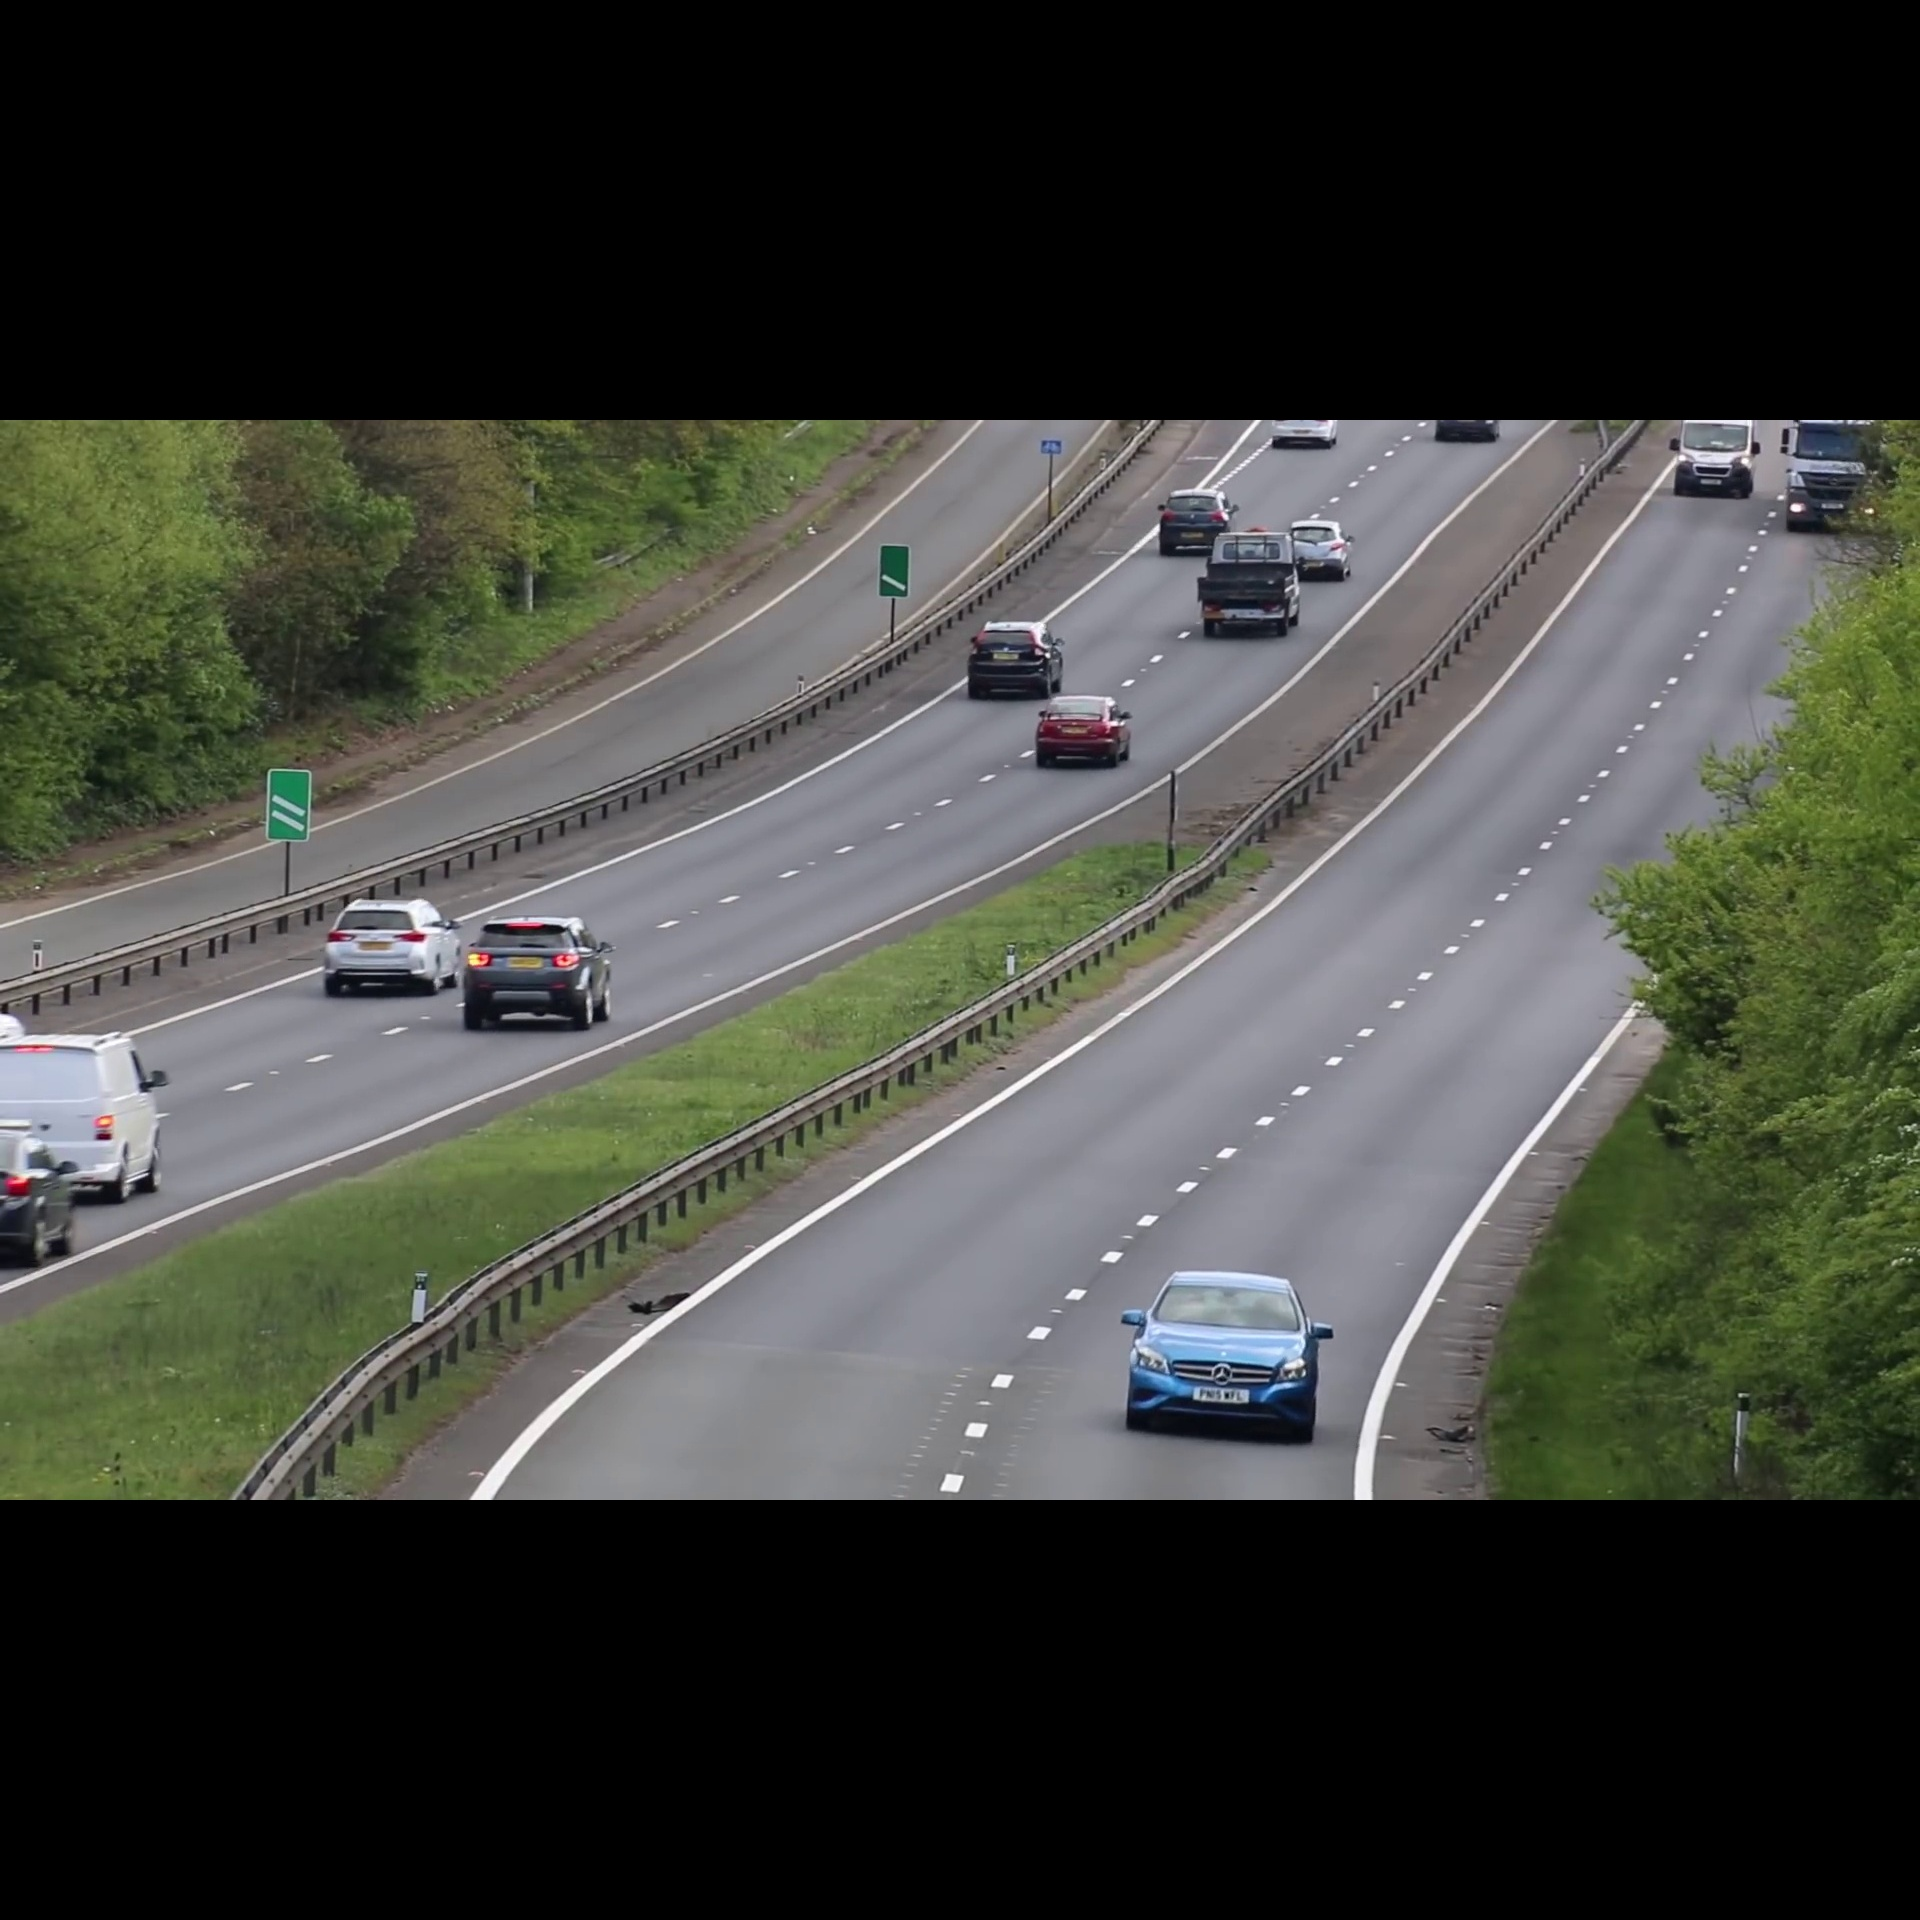vehicle: (1106, 1257, 1338, 1451), (2, 1022, 185, 1155), (464, 909, 621, 1036), (324, 893, 468, 1004), (1779, 420, 1894, 540), (1197, 531, 1303, 638), (2, 1141, 84, 1271), (1670, 420, 1769, 506), (967, 615, 1065, 700), (1034, 691, 1136, 772), (1152, 489, 1233, 550), (1296, 513, 1354, 580)
